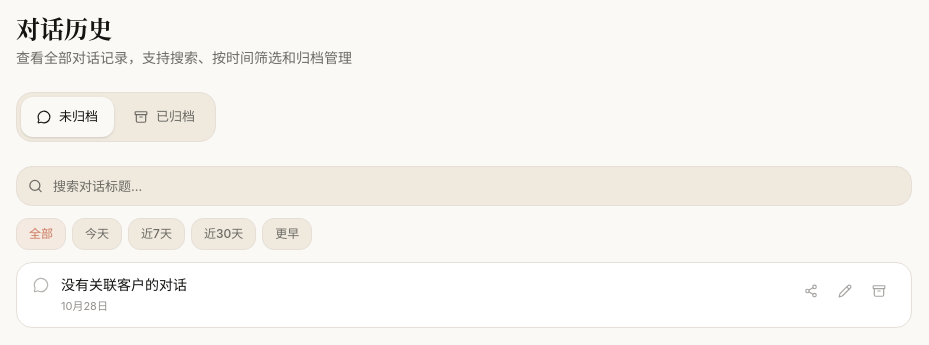
Test: conversation archive management › keeps a row hidden across navigation when the stale list arrives before confirmation: true
Click the button named "归档对话" at (879, 291), box x1=863 y1=275 x2=895 y2=307
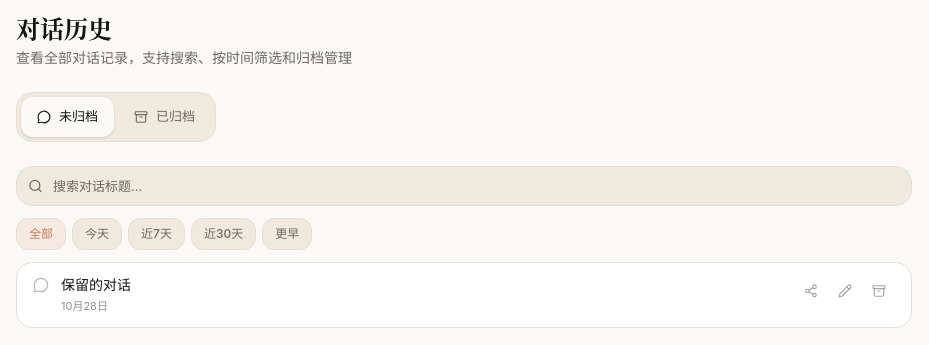
Expected: the text "保留的对话" is shown, x1=61 y1=276 x2=131 y2=293
Expected: the text "没有关联客户的对话" is gone
